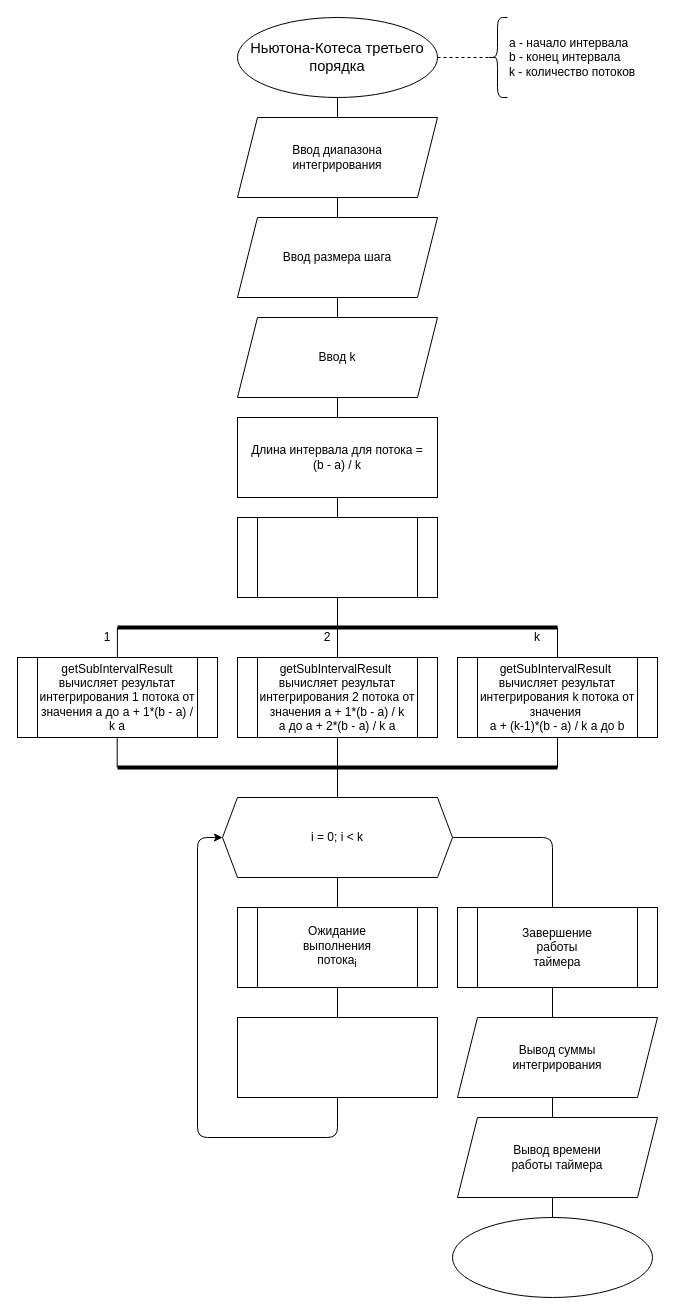
The diagram is 675 pixels wide and 1315 high, and some of its shapes have lost their labels. Here are the shapes that lost their labels. From the top down, the centre of each, then its label:
At (337,557): "Запуск работы таймера".
At (337,1057): "Сумма += Результат интегрирования потока i".
At (552,1257): "Возврат".
